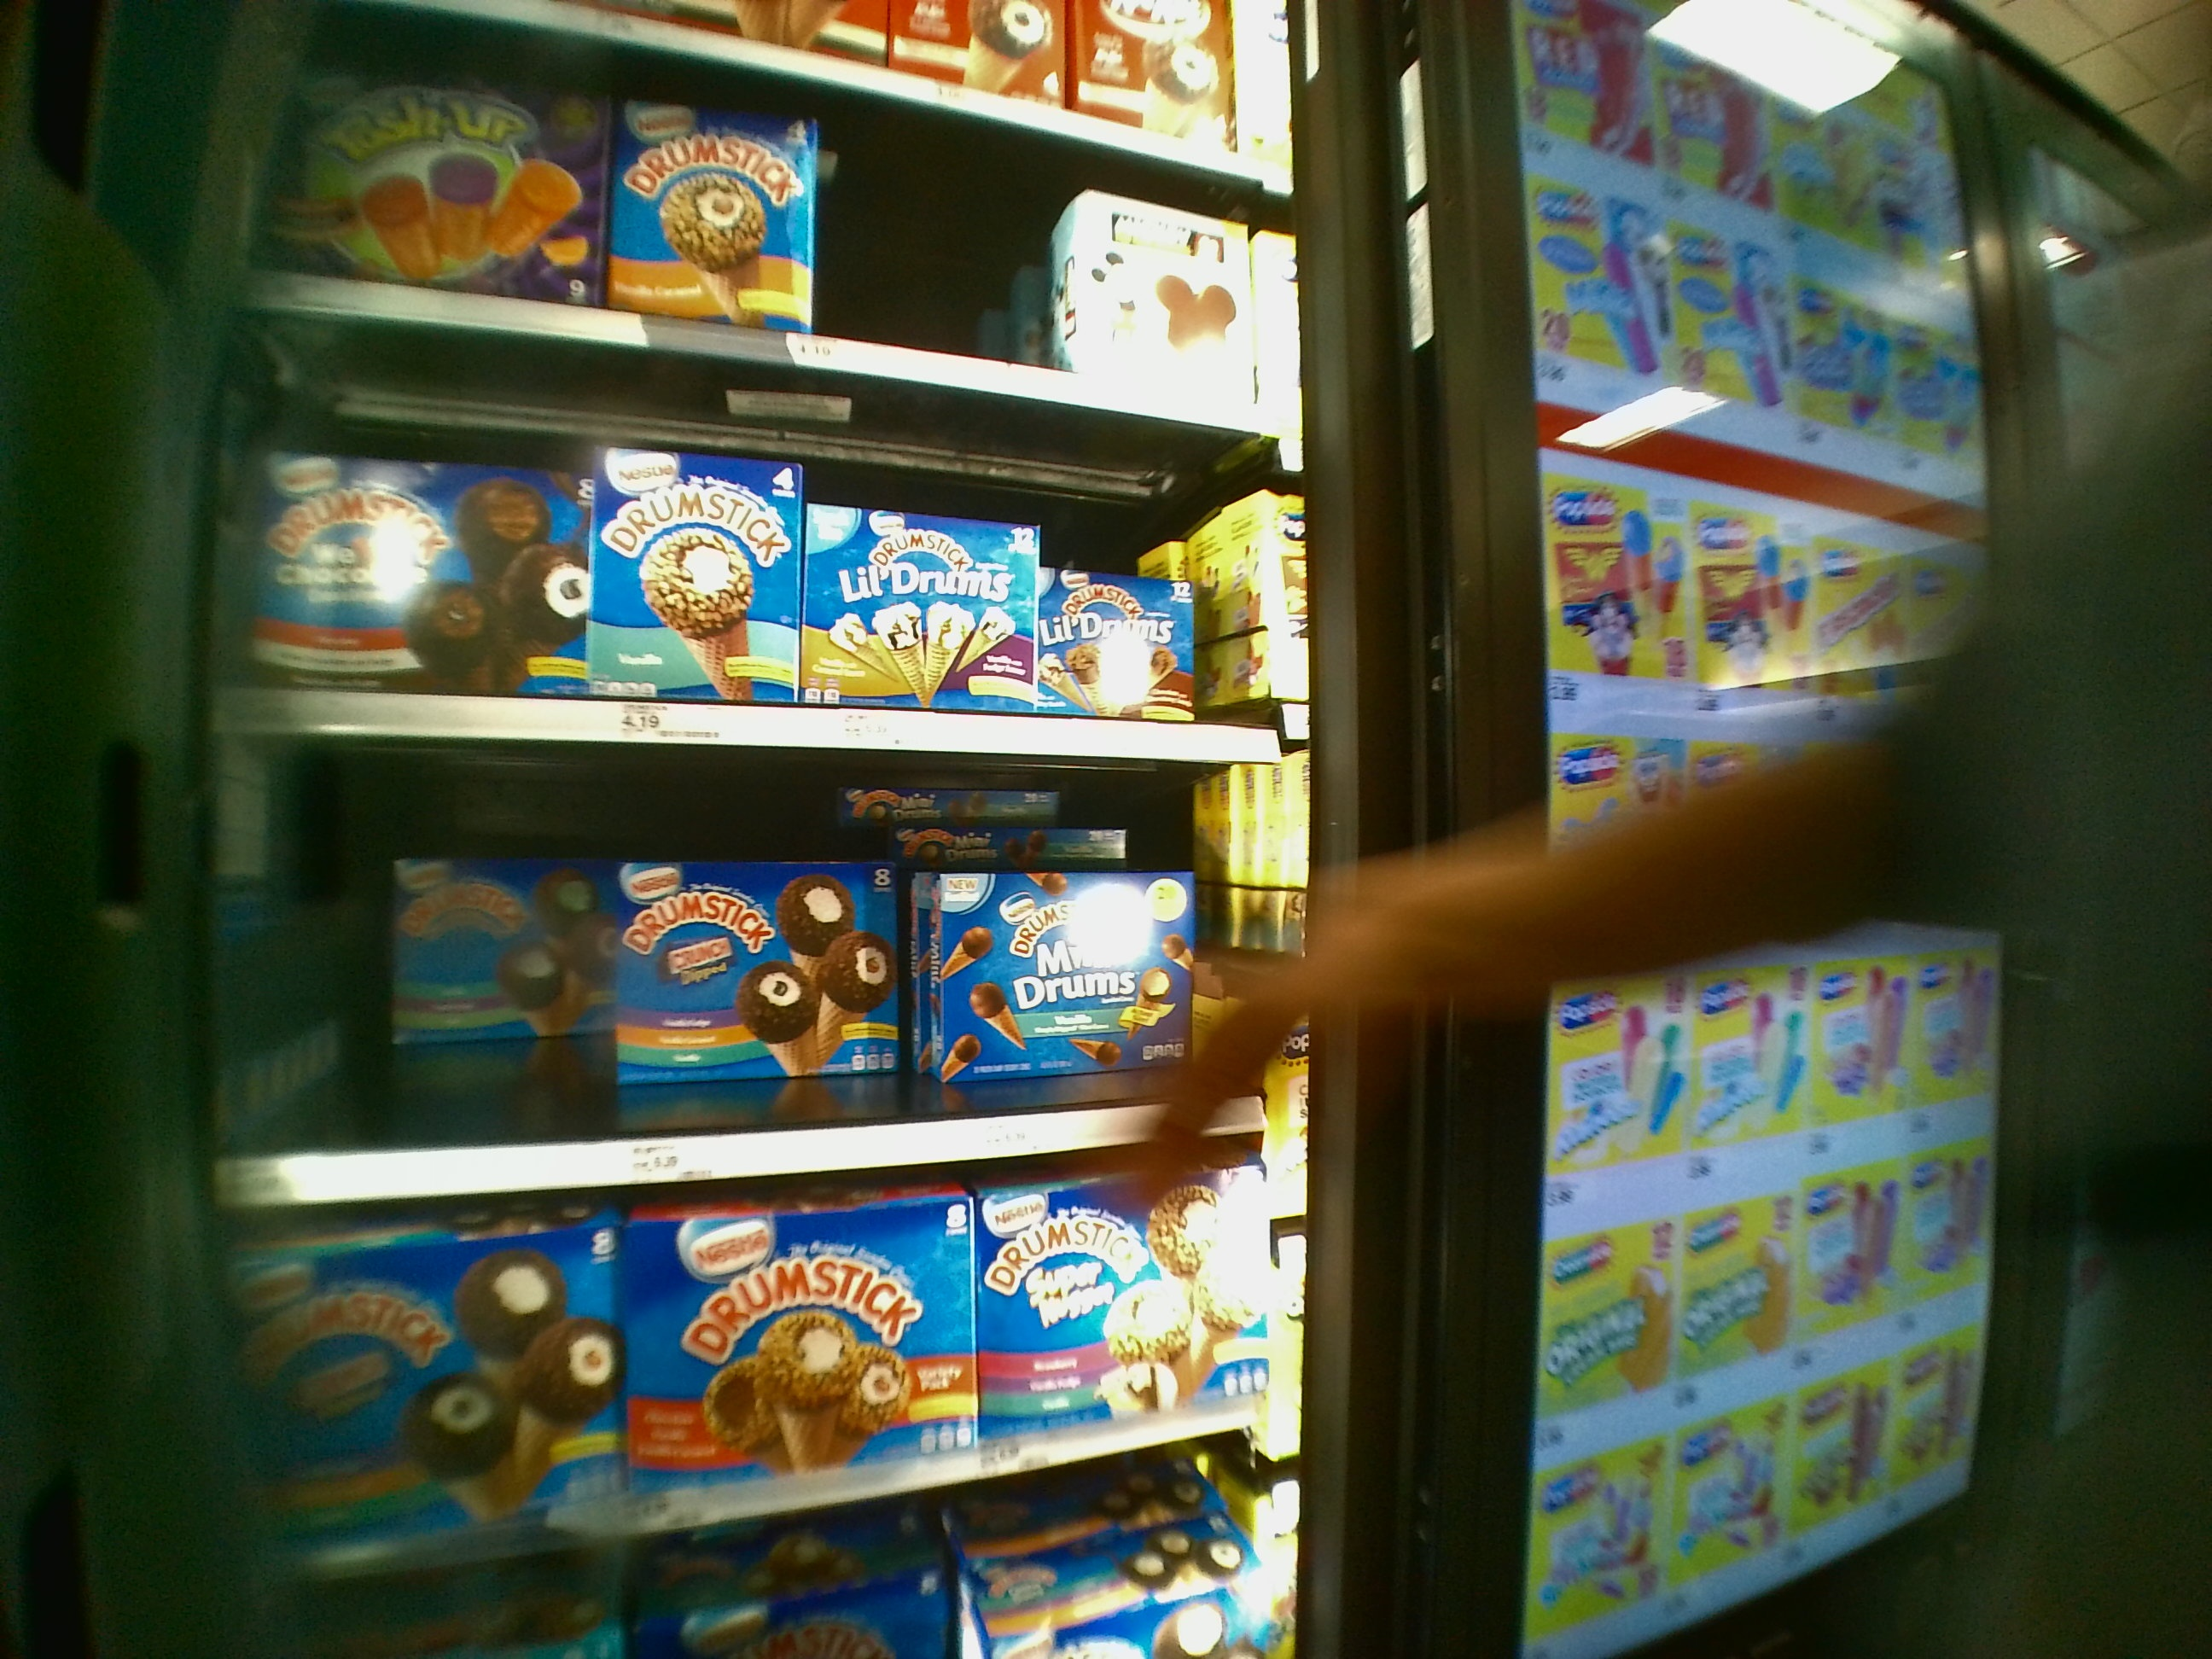shelf: (247, 1161, 1273, 1574), (228, 744, 1282, 1145), (233, 375, 1285, 770)
